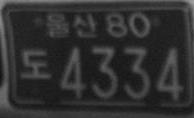0: (129, 11, 150, 39)
3: (91, 46, 119, 98), (122, 47, 149, 99)
4: (59, 46, 87, 99), (156, 47, 183, 101)
8: (105, 12, 128, 39)
도: (21, 48, 52, 80)
울산_O: (47, 12, 98, 38)
